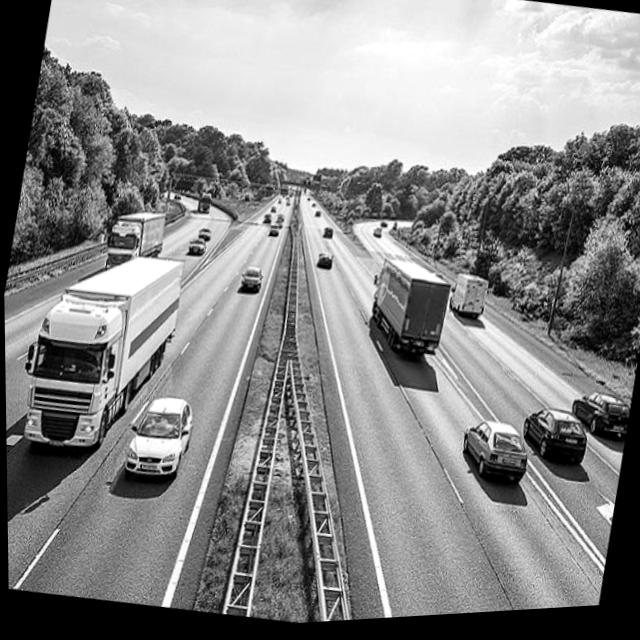cleat: (27, 139, 640, 626)
